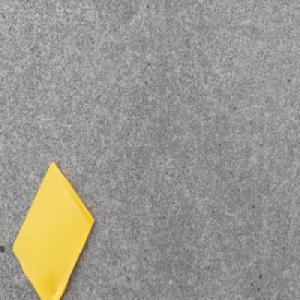PlasticPart: (11, 159, 95, 300)
